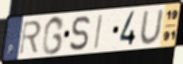4: (118, 10, 137, 48)
G: (41, 15, 66, 57)
I: (93, 13, 105, 50)
R: (18, 19, 43, 57)
S: (68, 14, 92, 52)
U: (139, 8, 165, 46)
